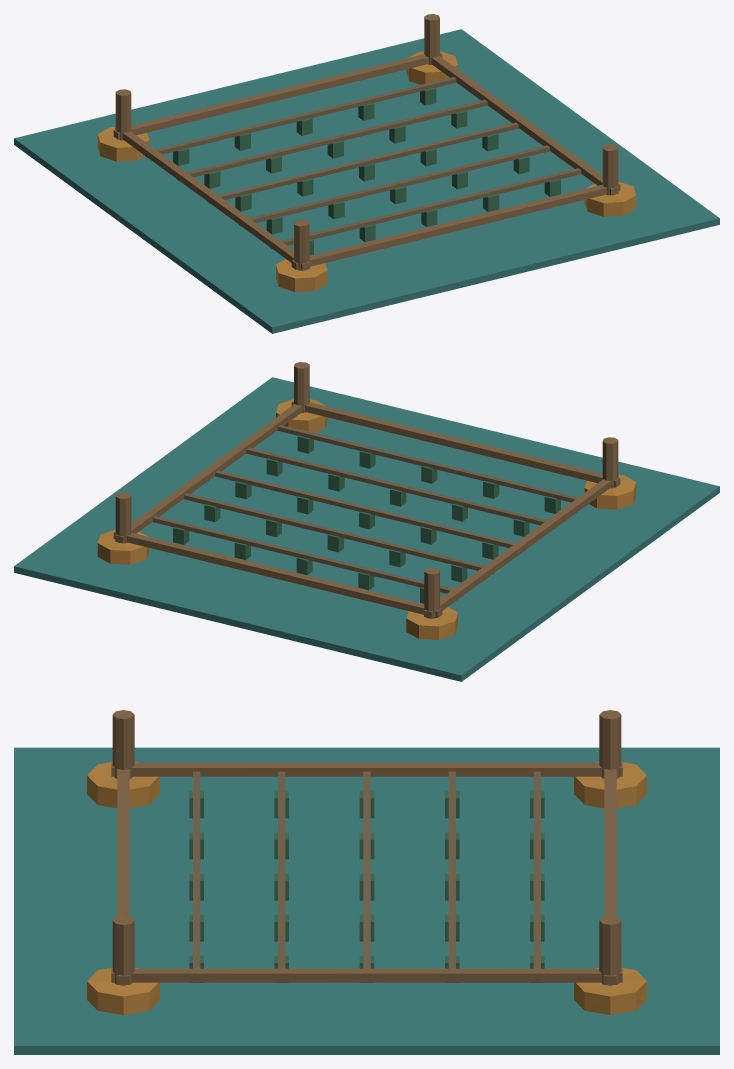
File: seaweed-farm.source.glb
3 renders of one model, top to bottom at view 1: azimuth 30°, elevation 25°; view 2: azimuth 150°, elevation 25°; view 3: azimuth 270°, elevation 25°, orthographic. The views are drawn at different scales.
Visible parts, largest first — view 1: seaweed-farm-water-plane-mesh, seaweed-farm-frame-rail--2-mesh (×2), seaweed-farm-frame-rail-2-mesh (×2), seaweed-farm-cultivation-line-0-mesh, seaweed-farm-cultivation-line--1.4-mesh, seaweed-farm-cultivation-line-0.7-mesh, seaweed-farm-cultivation-line--0.7-mesh, seaweed-farm-cultivation-line-1.4-mesh, seaweed-farm-corner-float--2-2-mesh, seaweed-farm-corner-float-2-2-mesh, seaweed-farm-corner-float--2--2-mesh, seaweed-farm-corner-float-2--2-mesh (+4 smaller); view 2: seaweed-farm-water-plane-mesh, seaweed-farm-frame-rail--2-mesh (×2), seaweed-farm-frame-rail-2-mesh (×2), seaweed-farm-cultivation-line--0.7-mesh, seaweed-farm-cultivation-line-0-mesh, seaweed-farm-cultivation-line-0.7-mesh, seaweed-farm-cultivation-line-1.4-mesh, seaweed-farm-cultivation-line--1.4-mesh, seaweed-farm-corner-float--2--2-mesh, seaweed-farm-corner-float-2--2-mesh, seaweed-farm-corner-float--2-2-mesh, seaweed-farm-corner-float-2-2-mesh (+4 smaller); view 3: seaweed-farm-water-plane-mesh, seaweed-farm-frame-rail-2-mesh (×2), seaweed-farm-frame-rail--2-mesh (×2), seaweed-farm-corner-float-2--2-mesh, seaweed-farm-corner-float-2-2-mesh, seaweed-farm-corner-float--2--2-mesh, seaweed-farm-corner-float--2-2-mesh, seaweed-farm-cultivation-line-0-mesh, seaweed-farm-cultivation-line-1.4-mesh, seaweed-farm-cultivation-line--1.4-mesh, seaweed-farm-cultivation-line--0.7-mesh, seaweed-farm-cultivation-line-0.7-mesh (+4 smaller).
Part boxes in pixels (box(x1,y1,x2,y2)): seaweed-farm-water-plane-mesh: box(14, 29, 719, 333); seaweed-farm-frame-rail--2-mesh (×2): box(113, 53, 442, 270); seaweed-farm-frame-rail-2-mesh (×2): box(291, 52, 620, 269); seaweed-farm-cultivation-line-0-mesh: box(207, 122, 518, 203); seaweed-farm-cultivation-line--1.4-mesh: box(145, 77, 456, 157); seaweed-farm-cultivation-line-0.7-mesh: box(239, 145, 549, 226); seaweed-farm-cultivation-line--0.7-mesh: box(177, 99, 487, 180); seaweed-farm-cultivation-line-1.4-mesh: box(270, 168, 581, 249); seaweed-farm-corner-float--2-2-mesh: box(276, 259, 327, 291); seaweed-farm-corner-float-2-2-mesh: box(584, 181, 636, 216); seaweed-farm-corner-float--2--2-mesh: box(97, 127, 149, 161); seaweed-farm-corner-float-2--2-mesh: box(406, 51, 457, 84); seaweed-farm-water-plane-mesh: box(14, 377, 719, 681); seaweed-farm-frame-rail--2-mesh (×2): box(113, 475, 618, 618); seaweed-farm-frame-rail-2-mesh (×2): box(115, 400, 620, 543); seaweed-farm-cultivation-line--0.7-mesh: box(184, 493, 495, 574); seaweed-farm-cultivation-line-0-mesh: box(215, 470, 526, 551); seaweed-farm-cultivation-line-0.7-mesh: box(246, 447, 556, 528); seaweed-farm-cultivation-line-1.4-mesh: box(277, 425, 588, 505); seaweed-farm-cultivation-line--1.4-mesh: box(152, 516, 463, 597); seaweed-farm-corner-float--2--2-mesh: box(406, 607, 457, 639); seaweed-farm-corner-float-2--2-mesh: box(97, 529, 149, 564); seaweed-farm-corner-float--2-2-mesh: box(584, 475, 636, 509); seaweed-farm-corner-float-2-2-mesh: box(276, 399, 327, 432); seaweed-farm-water-plane-mesh: box(14, 747, 719, 1054); seaweed-farm-frame-rail-2-mesh (×2): box(111, 769, 622, 984); seaweed-farm-frame-rail--2-mesh (×2): box(111, 762, 622, 984); seaweed-farm-corner-float-2--2-mesh: box(574, 967, 646, 1015); seaweed-farm-corner-float-2-2-mesh: box(87, 967, 159, 1015); seaweed-farm-corner-float--2--2-mesh: box(574, 762, 646, 808); seaweed-farm-corner-float--2-2-mesh: box(87, 762, 159, 808); seaweed-farm-cultivation-line-0-mesh: box(363, 771, 370, 982); seaweed-farm-cultivation-line-1.4-mesh: box(193, 771, 200, 982); seaweed-farm-cultivation-line--1.4-mesh: box(533, 771, 540, 982); seaweed-farm-cultivation-line--0.7-mesh: box(448, 771, 455, 982); seaweed-farm-cultivation-line-0.7-mesh: box(278, 771, 285, 982).
Bounding box in the file's own units: 5.8 × 1.26 × 5.8.
